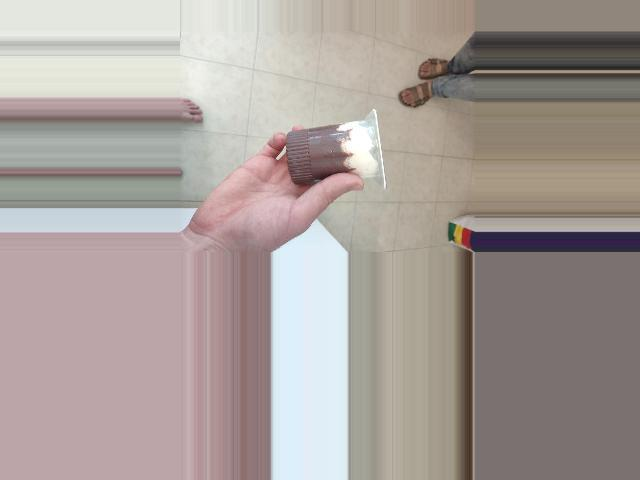milky: (271, 113, 381, 193)
